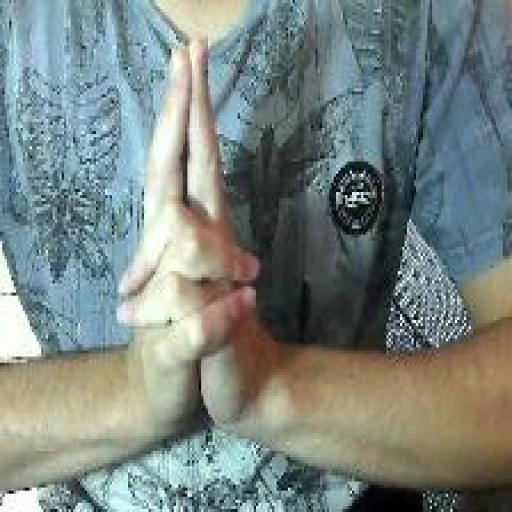Tora -tiger-: (114, 34, 265, 454)
